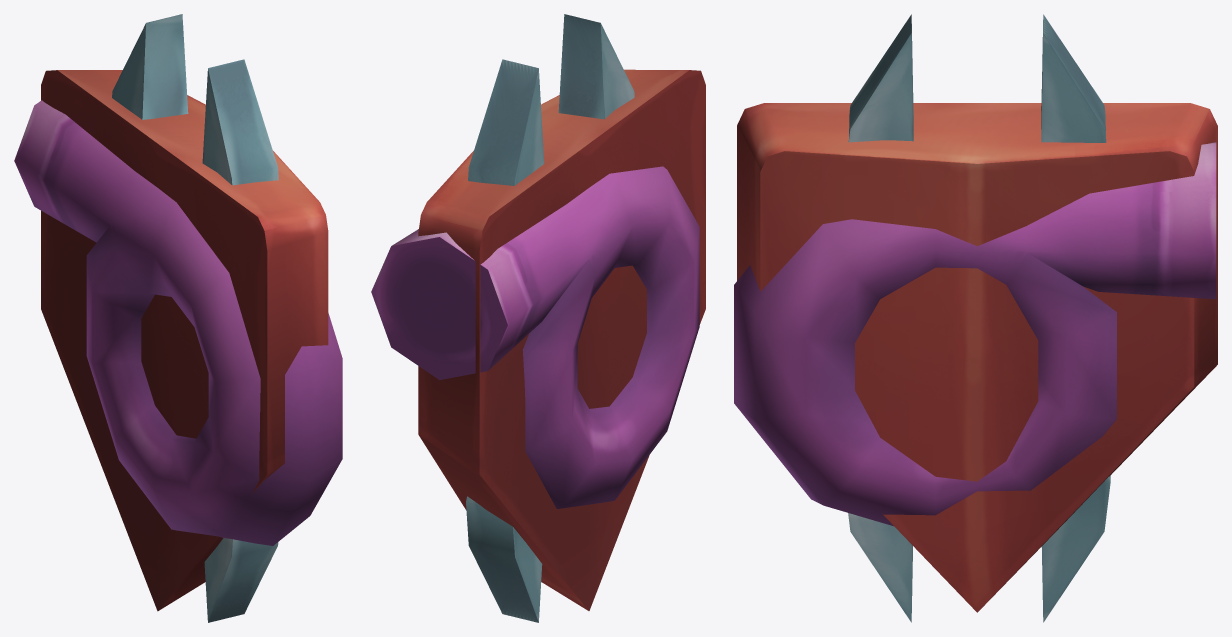
The model's file is Tanks_Pickups.fbx.
3 views of the same model, side by side, from view 1: azimuth 30°, elevation 25°; view 2: azimuth 150°, elevation 25°; view 3: azimuth 270°, elevation 25° (orthographic). The views are drawn at different scales.
Parts seen in each view (by area): view 1: Pickup_Speed, Pickup_Shield, Pickup_Repar; view 2: Pickup_Speed, Pickup_Shield, Pickup_Repar; view 3: Pickup_Shield, Pickup_Speed, Pickup_Repar.
Boxes of the visible parts, x1,y1,x2,y2 form: Pickup_Speed: (14,100,342,545); Pickup_Shield: (41,70,328,611); Pickup_Repar: (112,14,278,622); Pickup_Speed: (371,166,699,508); Pickup_Shield: (418,69,705,610); Pickup_Repar: (466,14,634,622); Pickup_Shield: (737,103,1217,612); Pickup_Speed: (734,142,1216,526); Pickup_Repar: (848,14,1110,622).
Bounding box in the file's own units: 0.1071 × 0.4196 × 0.3081.
